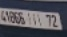1: (5, 10, 10, 22)
2: (52, 14, 59, 28)
4: (1, 10, 6, 23)
6: (10, 10, 16, 23), (19, 12, 25, 23), (15, 11, 19, 23)
7: (44, 14, 52, 28)
a: (32, 12, 37, 26)
